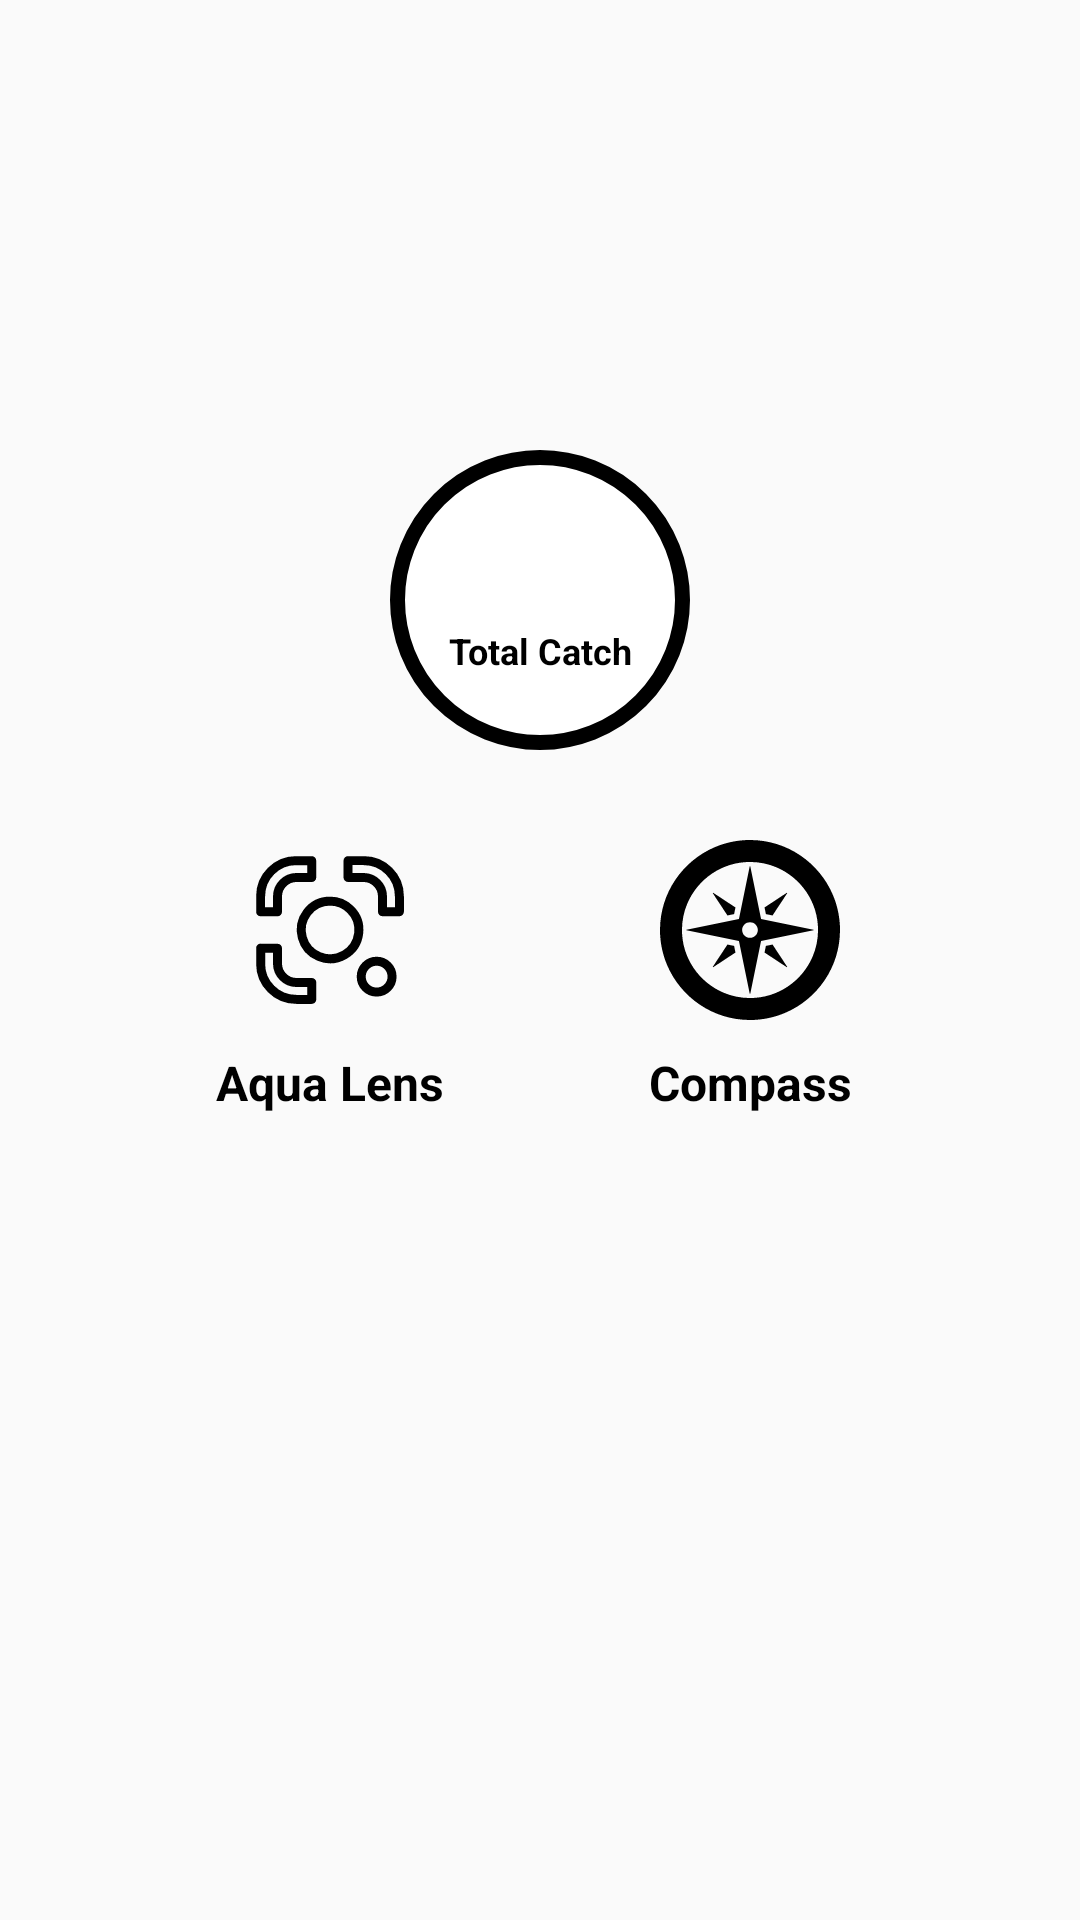

Locate icon controls on the screen. Image size 1080x1920, boxes as {"left": x1, "top": y1, "right": x2, "bottom": y2}.
camera: {"left": 256, "top": 856, "right": 404, "bottom": 1004}
